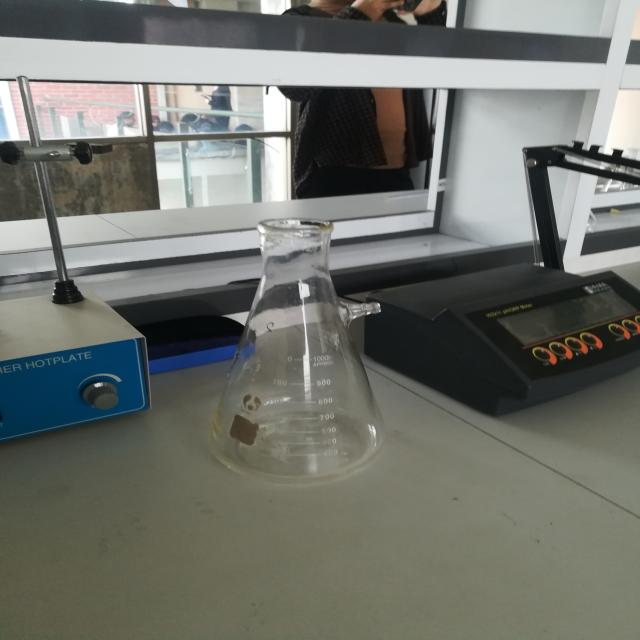Conical_Flask: (198, 182, 437, 503)
